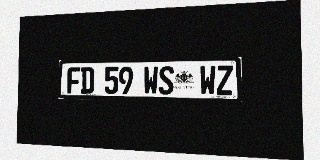5: (105, 67, 119, 94)
9: (119, 66, 133, 94)
D: (81, 67, 94, 94)
F: (67, 67, 80, 94)
S: (159, 66, 174, 95)
W: (199, 65, 216, 95), (143, 66, 158, 95)
Z: (216, 65, 233, 95)
